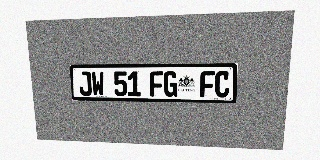1: (127, 71, 141, 96)
5: (114, 71, 127, 96)
C: (215, 71, 230, 97)
F: (200, 71, 215, 97), (150, 71, 163, 97)
G: (164, 71, 177, 97)
J: (78, 71, 92, 96)
W: (91, 71, 105, 96)
